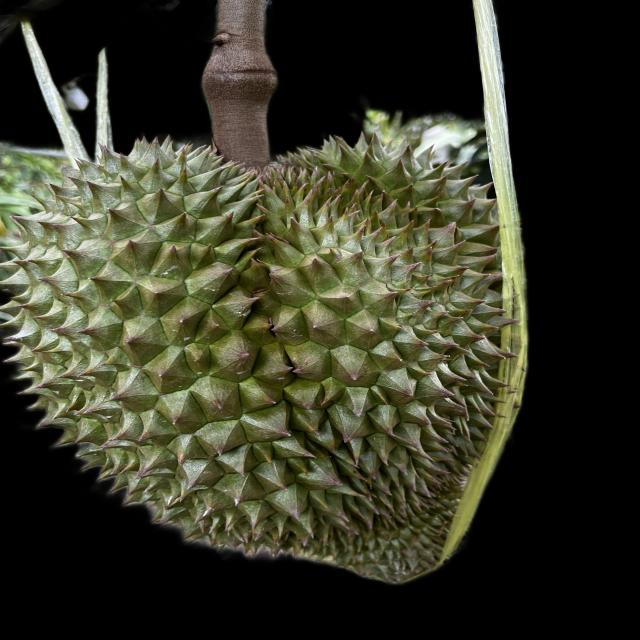immature: (0, 140, 514, 565)
